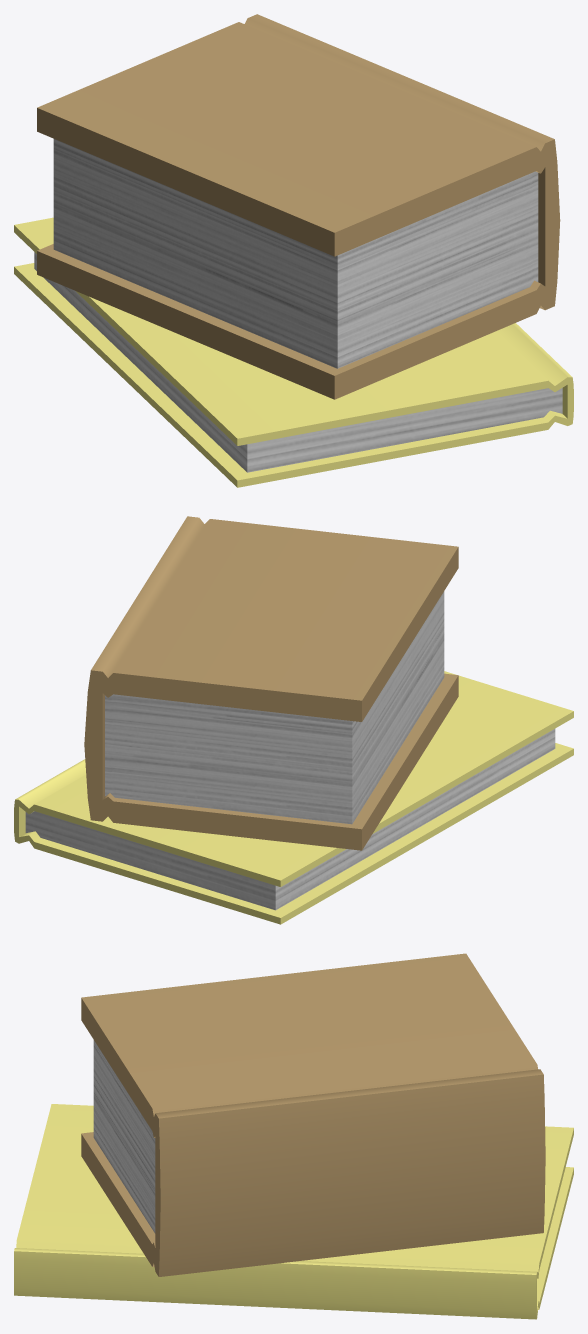
File: books.gltf
3 views of the same model, one above another, from view 1: azimuth 30°, elevation 25°; view 2: azimuth 150°, elevation 25°; view 3: azimuth 270°, elevation 25° (orthographic). The views are drawn at different scales.
Parts seen in each view (by area): view 1: stacked_Books.003; view 2: stacked_Books.003; view 3: stacked_Books.003.
Part boxes in pixels (box(x1,y1,x2,y2)): stacked_Books.003: box(14, 14, 573, 487); stacked_Books.003: box(14, 516, 573, 924); stacked_Books.003: box(14, 953, 573, 1319).
Size of the model in its own units: 0.9707 by 0.5271 by 1.3.
1 material, 1 textured.
